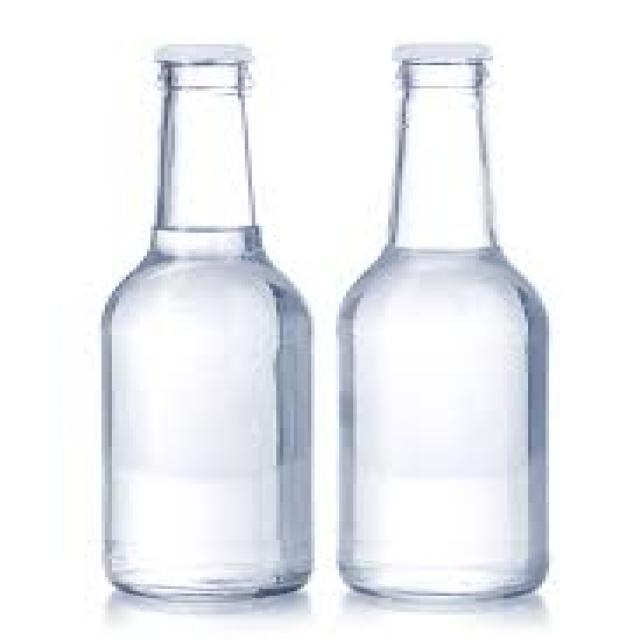Glass-Non-Biodegradable but Recyclable-: (334, 41, 548, 603), (101, 45, 315, 602)
